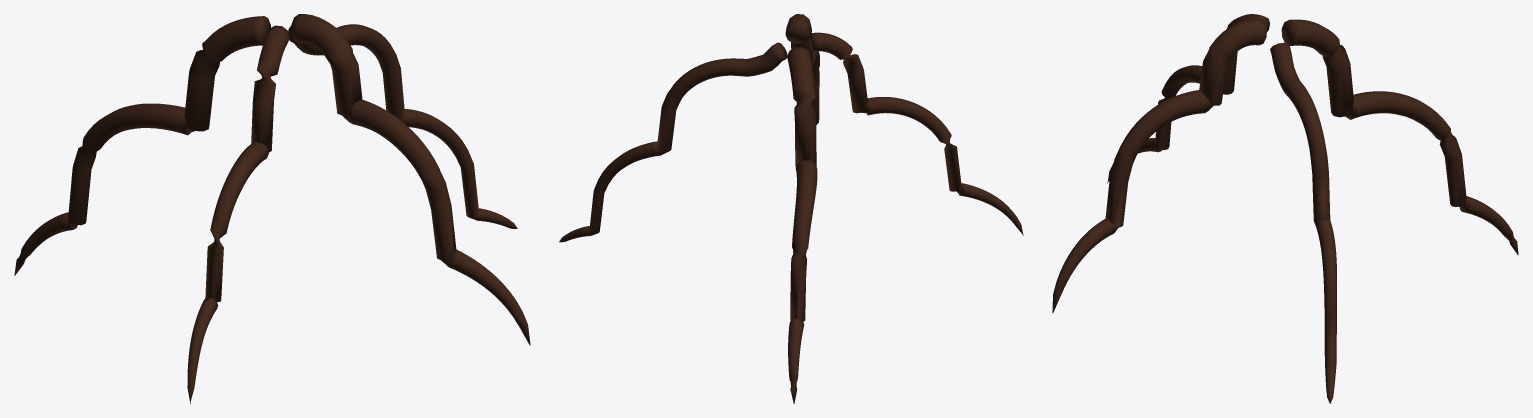
The model's file is sweet-drizzle-cream.glb.
3 renders of one model, left to right at view 1: azimuth 30°, elevation 25°; view 2: azimuth 150°, elevation 25°; view 3: azimuth 270°, elevation 25°, orthographic. The views are drawn at different scales.
Visible parts, largest first — view 1: Chocolate over cream folds.003, Chocolate over cream folds.001, Chocolate over cream folds.002, Chocolate over cream folds; view 2: Chocolate over cream folds.001, Chocolate over cream folds, Chocolate over cream folds.002, Chocolate over cream folds.003; view 3: Chocolate over cream folds.003, Chocolate over cream folds.001, Chocolate over cream folds, Chocolate over cream folds.002.
Boxes of the visible parts, left/top/right/bottom form: Chocolate over cream folds.003: left=291, top=14, right=530, bottom=345; Chocolate over cream folds.001: left=14, top=16, right=270, bottom=275; Chocolate over cream folds.002: left=187, top=25, right=289, bottom=403; Chocolate over cream folds: left=288, top=24, right=517, bottom=228; Chocolate over cream folds.001: left=787, top=46, right=817, bottom=403; Chocolate over cream folds: left=559, top=42, right=787, bottom=242; Chocolate over cream folds.002: left=809, top=32, right=1023, bottom=235; Chocolate over cream folds.003: left=785, top=14, right=819, bottom=124; Chocolate over cream folds.003: left=1052, top=19, right=1266, bottom=312; Chocolate over cream folds.001: left=1281, top=19, right=1518, bottom=254; Chocolate over cream folds: left=1270, top=42, right=1336, bottom=403; Chocolate over cream folds.002: left=1107, top=14, right=1269, bottom=183.
Size of the model in its own units: 0.6703 by 0.4716 by 0.6704.
